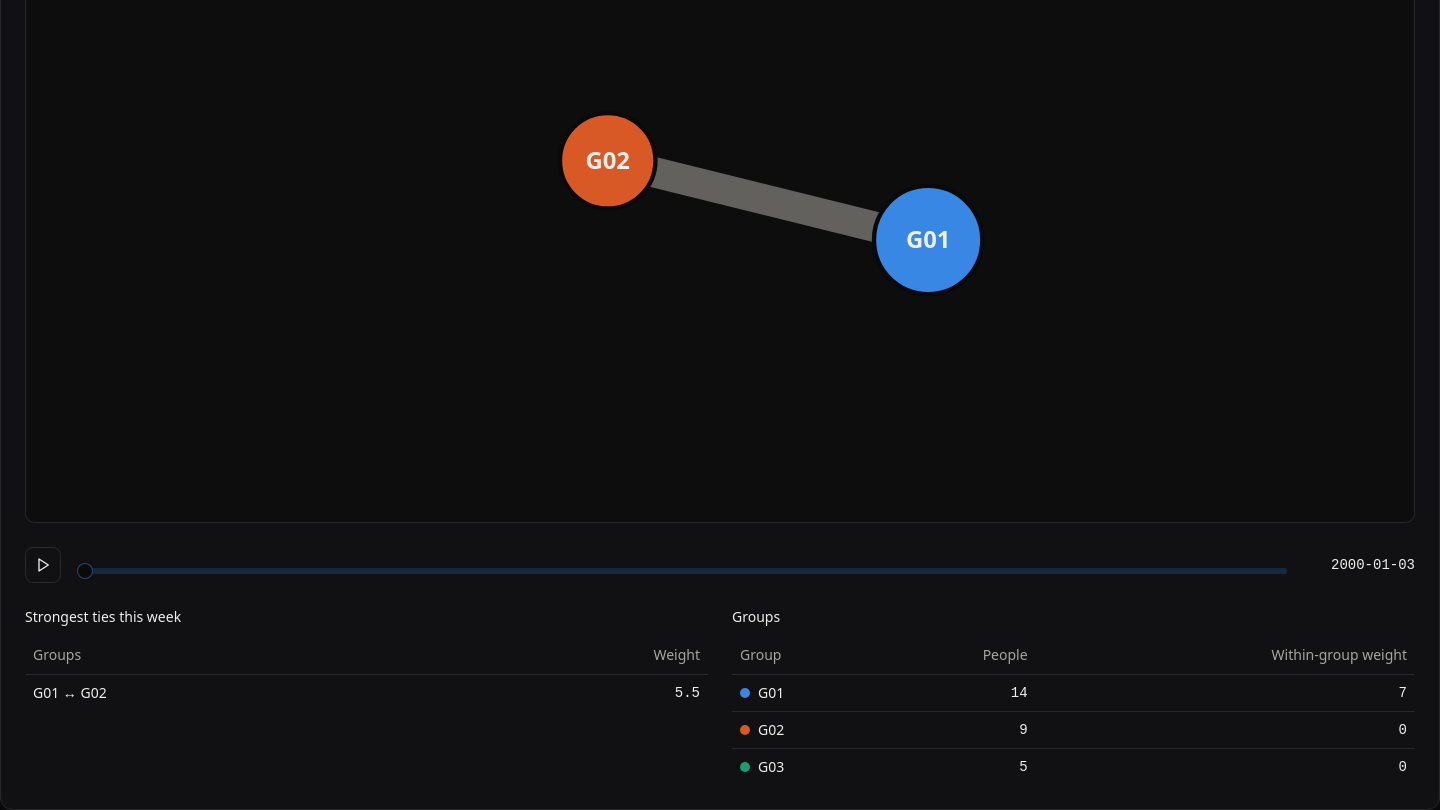
Test case: CommunityGraph without WebGL (2D fallback) › plays through the weeks and stops at the end
Later steps or results of the test are not shown.
(page scrolled)
Click the button named "Play" at (43, 565), box [25,547,61,583]
Wait 2400 ms
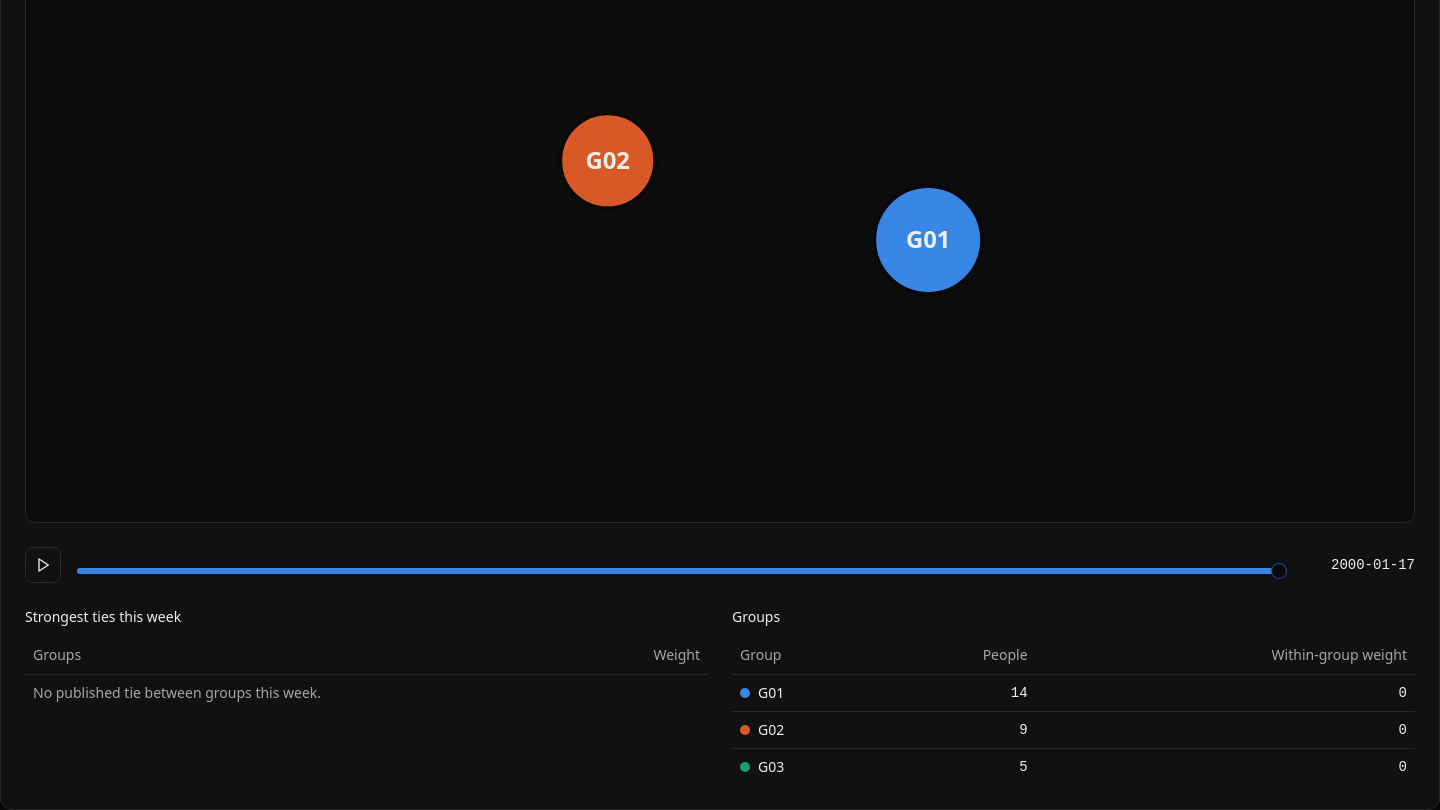
Expected: the text "2000-01-17" is shown, [1331,557,1415,573]
